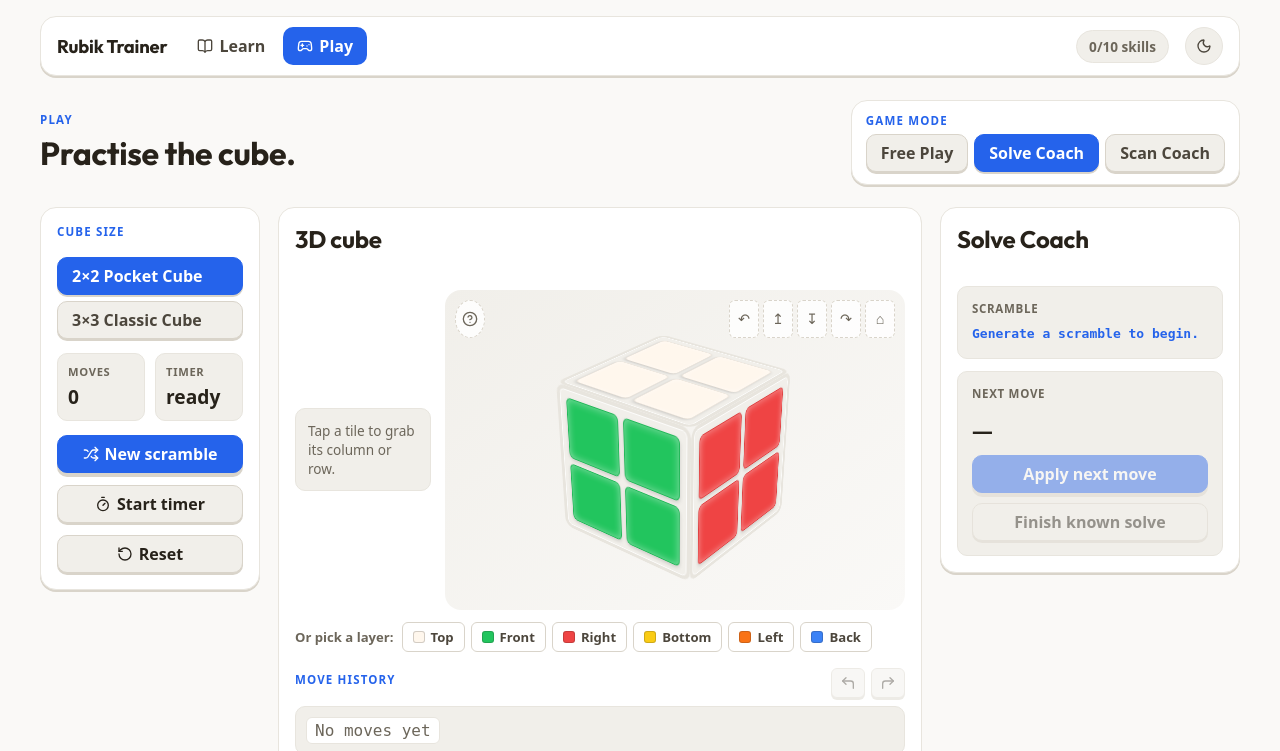
Play page — modes on the URL, honest scoring › Solve Coach shows a real score and records a session once the cube is solved
Click the button "New scramble": point(150, 454) [57,435,243,473]
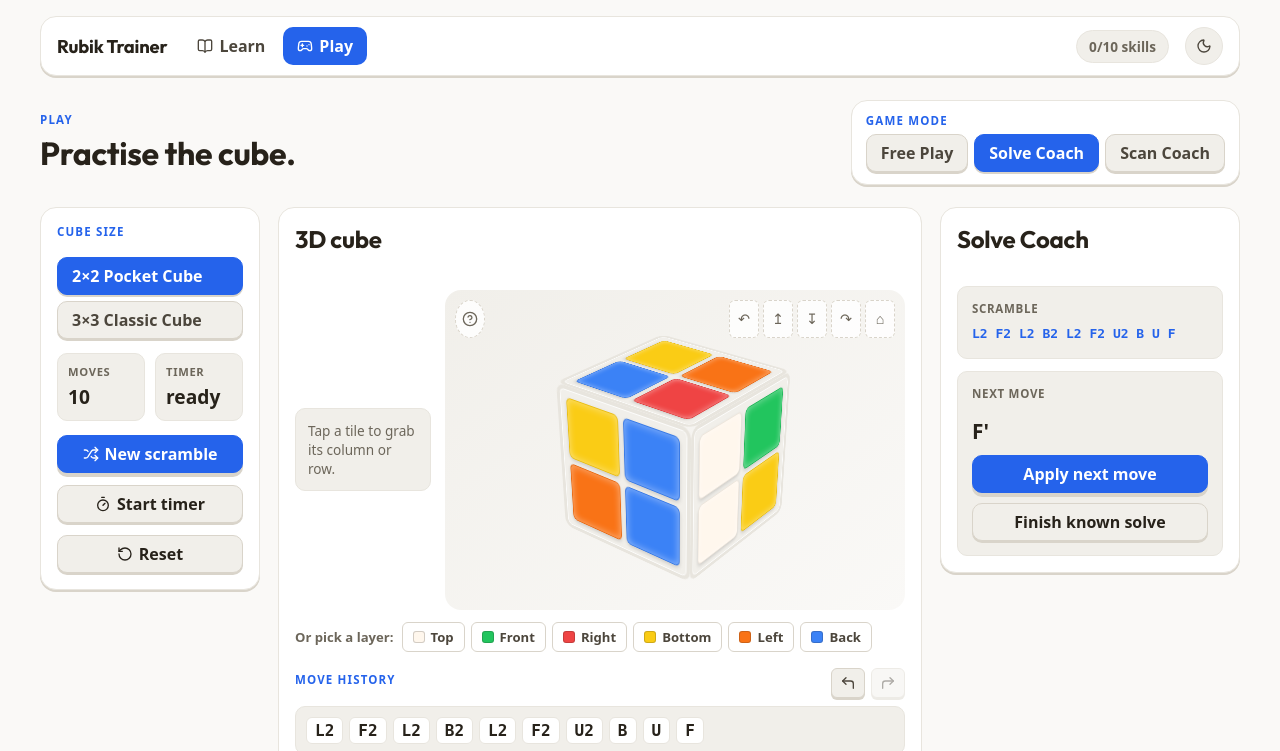
Click the button "Finish known solve": point(1090, 522) [972,503,1208,541]
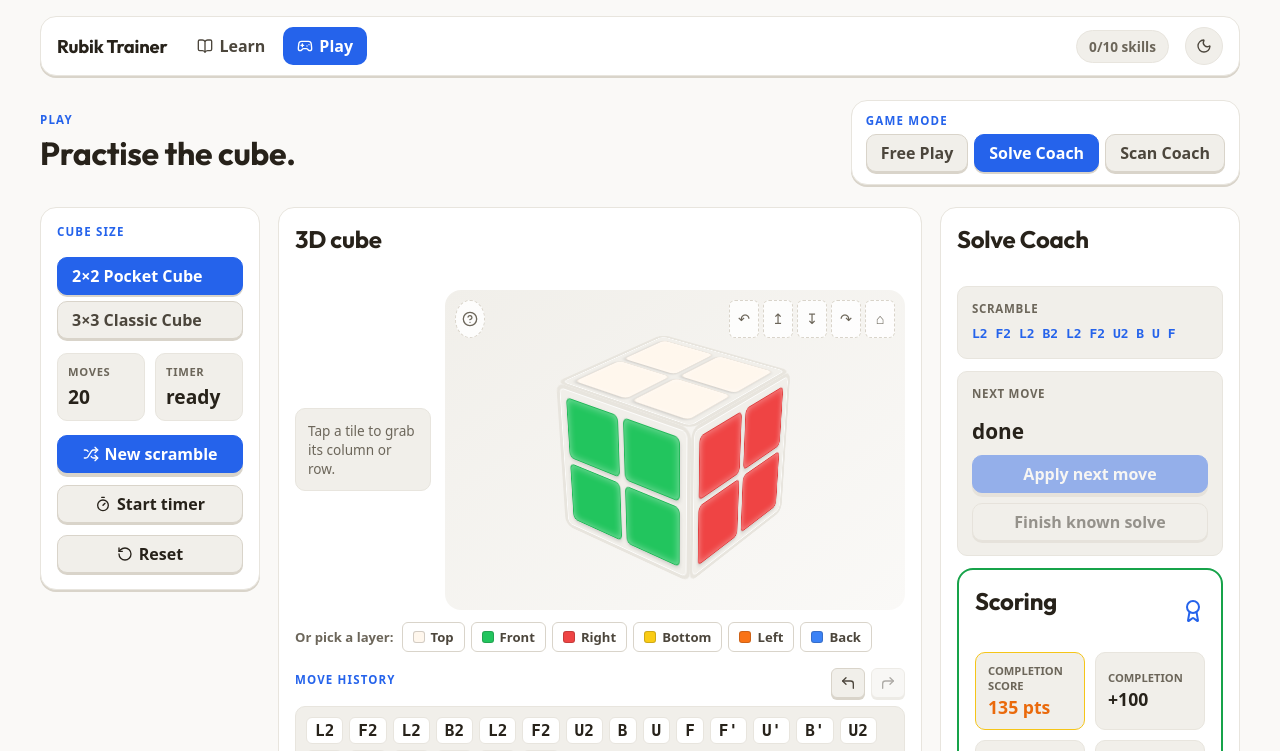
Check: the heading "Scoring" is shown, box [975,586,1057,616]
Check: the text "Completion score" is shown, box [988,663,1072,693]
